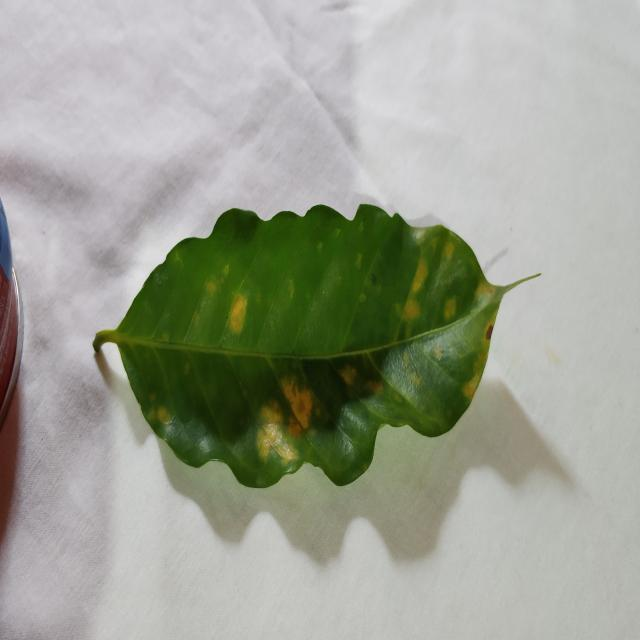Enfermedad-Roya: (93, 205, 530, 491)
